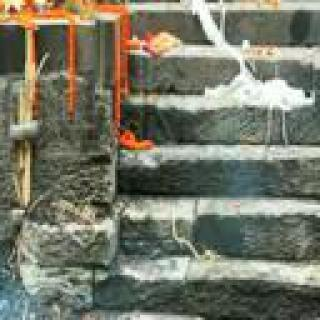fire: (0, 0, 30, 20)
